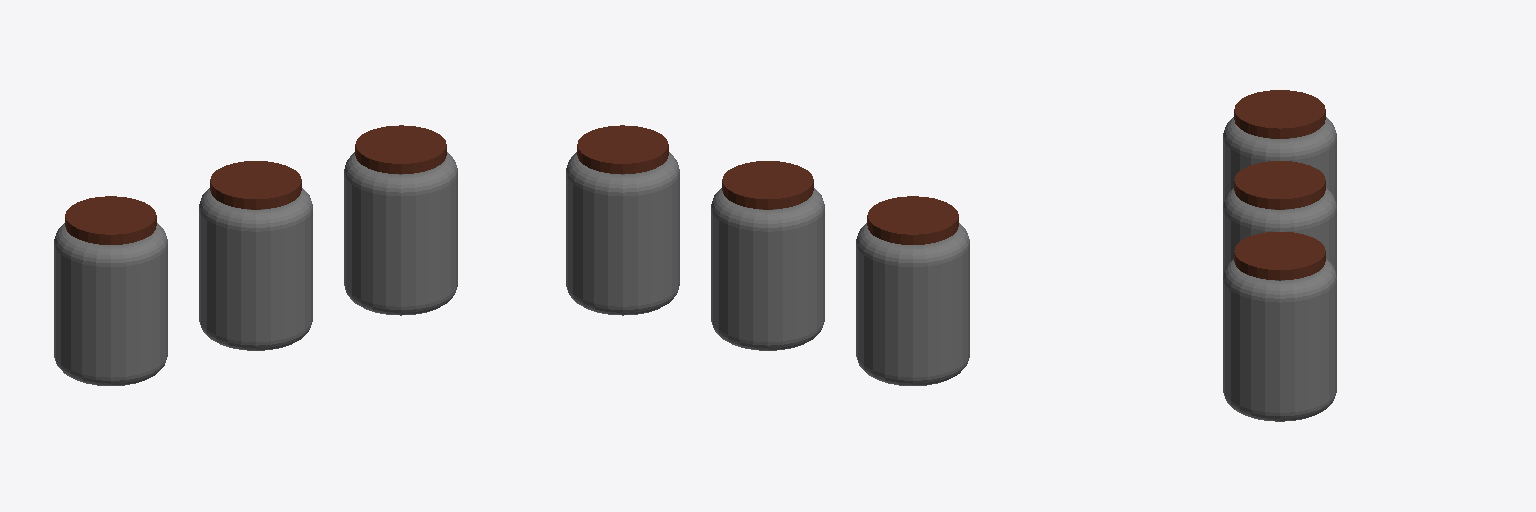
Rendered from pots.obj.
3 renders of one model, left to right at view 1: azimuth 30°, elevation 25°; view 2: azimuth 150°, elevation 25°; view 3: azimuth 270°, elevation 25°, orthographic.
Visible parts, largest first — view 1: Mesh4 Group6 Group4 Model, Mesh2 Group3 Group1 Model, Mesh6 Group9 Group7 Model; view 2: Mesh4 Group6 Group4 Model, Mesh2 Group3 Group1 Model, Mesh6 Group9 Group7 Model; view 3: Mesh4 Group6 Group4 Model, Mesh2 Group3 Group1 Model, Mesh6 Group9 Group7 Model.
Part boxes in pixels (x1,y1,x2,y2): Mesh4 Group6 Group4 Model: (344,125,457,315); Mesh2 Group3 Group1 Model: (199,161,312,350); Mesh6 Group9 Group7 Model: (54,196,167,385); Mesh4 Group6 Group4 Model: (566,125,679,315); Mesh2 Group3 Group1 Model: (711,161,824,350); Mesh6 Group9 Group7 Model: (856,196,969,385); Mesh4 Group6 Group4 Model: (1223,232,1336,421); Mesh2 Group3 Group1 Model: (1223,161,1336,274); Mesh6 Group9 Group7 Model: (1223,90,1336,203).
Bounding box in the file's own units: 0.59 × 0.22 × 0.15.